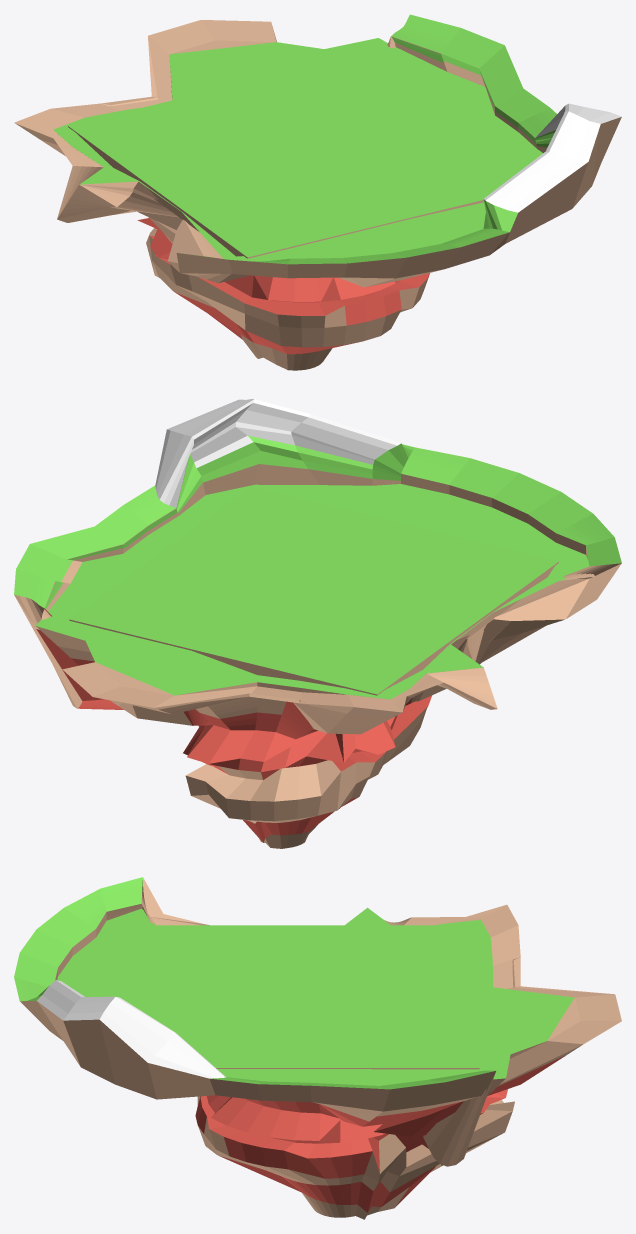
Rendered from FloatIsland2.obj.
3 renders of one model, top to bottom at view 1: azimuth 30°, elevation 25°; view 2: azimuth 150°, elevation 25°; view 3: azimuth 270°, elevation 25°, orthographic. The views are drawn at different scales.
Parts seen in each view (by area): view 1: Cube.001; view 2: Cube.001; view 3: Cube.001.
Part boxes in pixels (x1,y1,x2,y2): Cube.001: [14, 14, 621, 370]; Cube.001: [14, 399, 621, 848]; Cube.001: [14, 877, 621, 1219].
Size of the model in its own units: 15.08 by 9.45 by 18.11.
